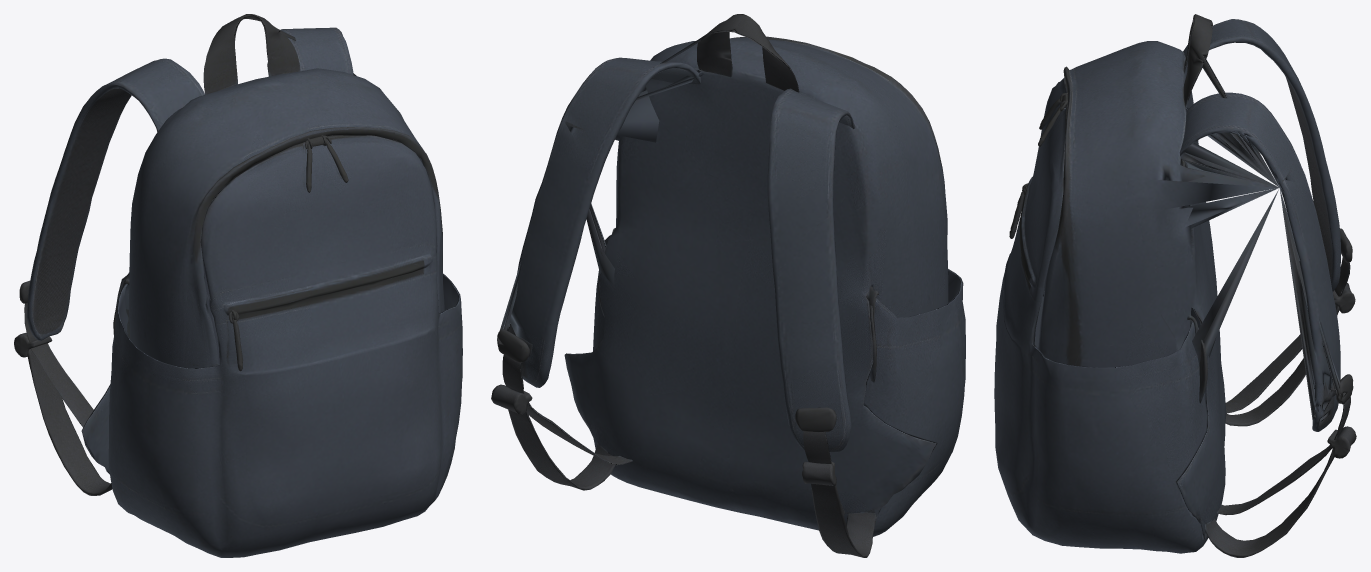
The model's file is regular.glb.
The picture shows the model from 3 angles, left to right: view 1: azimuth 30°, elevation 25°; view 2: azimuth 150°, elevation 25°; view 3: azimuth 270°, elevation 25°; orthographic projection. The views are drawn at different scales.
Visible parts, largest first — view 1: Mesh_0; view 2: Mesh_0; view 3: Mesh_0.
Boxes of the visible parts, <box> form: Mesh_0: <box>14,14,462,557</box>; Mesh_0: <box>491,14,965,557</box>; Mesh_0: <box>994,14,1356,557</box>.
Size of the model in its own units: 0.3527 by 0.45 by 0.3082.
1 material, 1 textured.
